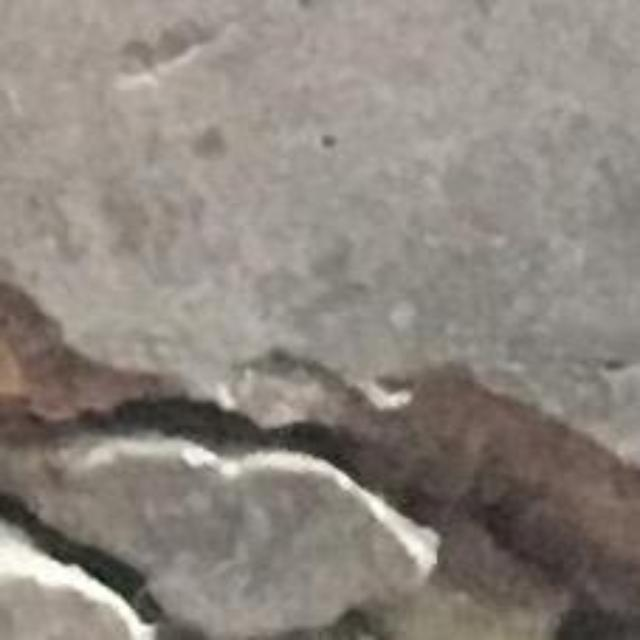crack: (0, 282, 639, 639)
